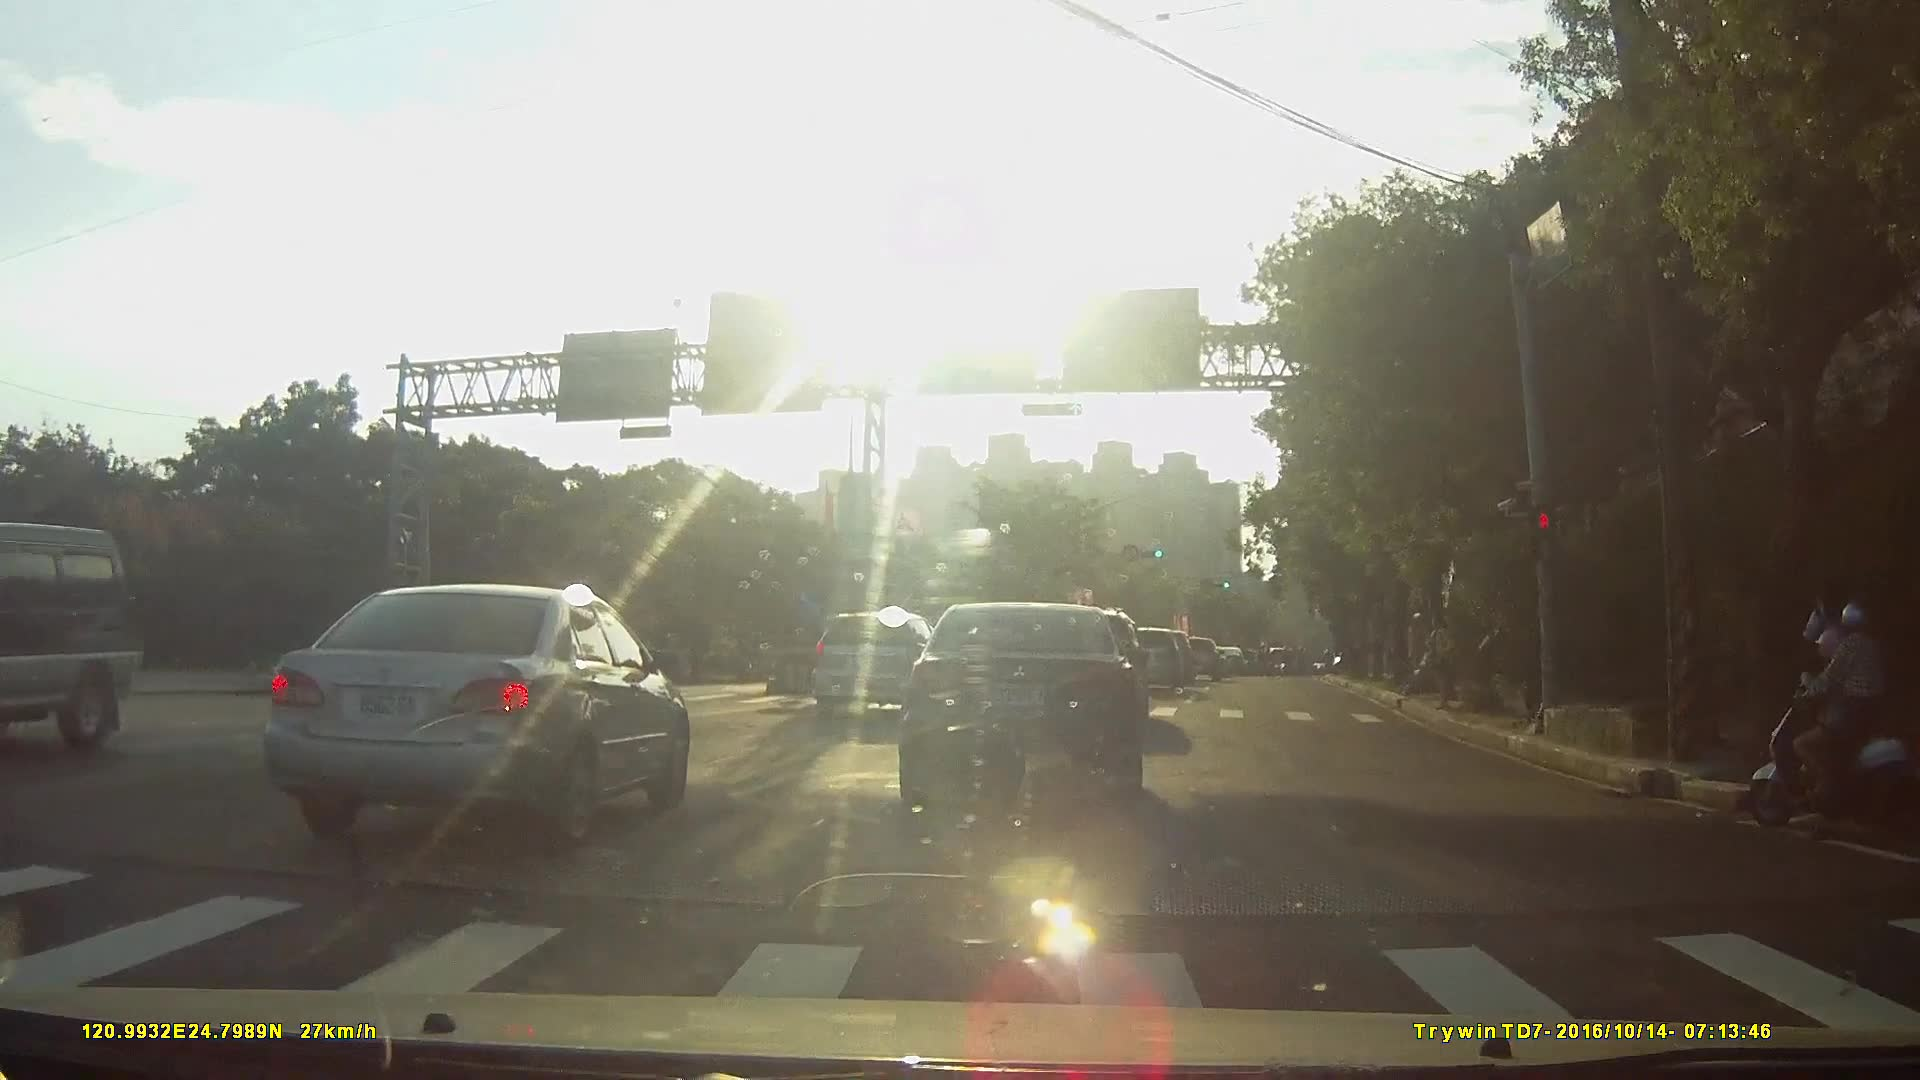pedestrian: (1805, 580, 1868, 753)
rider: (1751, 603, 1920, 836)
vehicle: (263, 581, 693, 854), (897, 592, 1150, 798), (1, 522, 172, 755), (807, 609, 948, 718), (1111, 626, 1185, 691), (1173, 635, 1222, 679), (1210, 646, 1246, 674)
